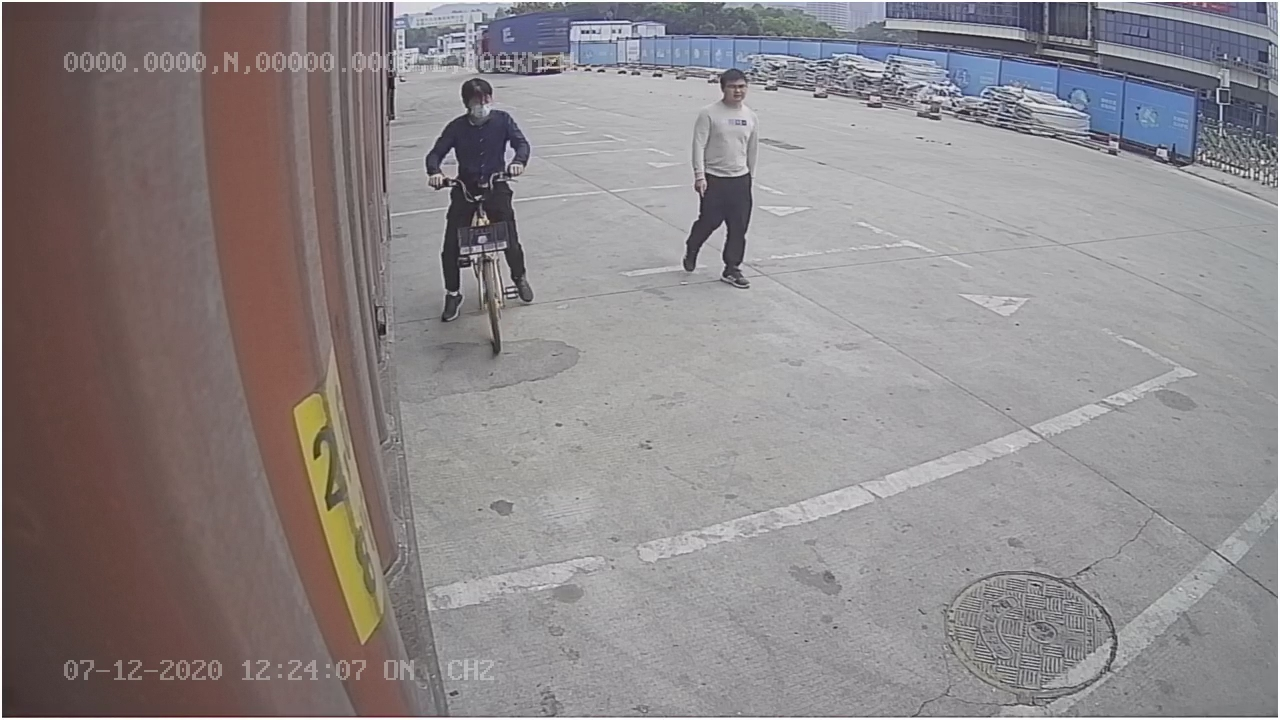person: (677, 65, 762, 289)
